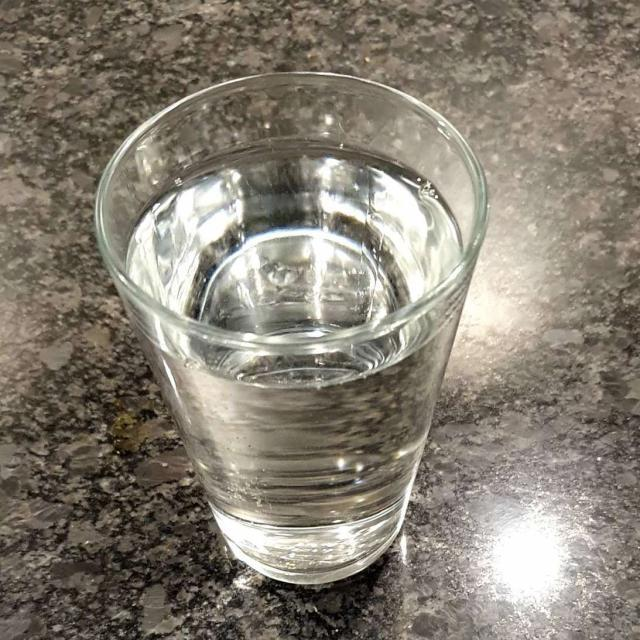water: (129, 156, 461, 564)
